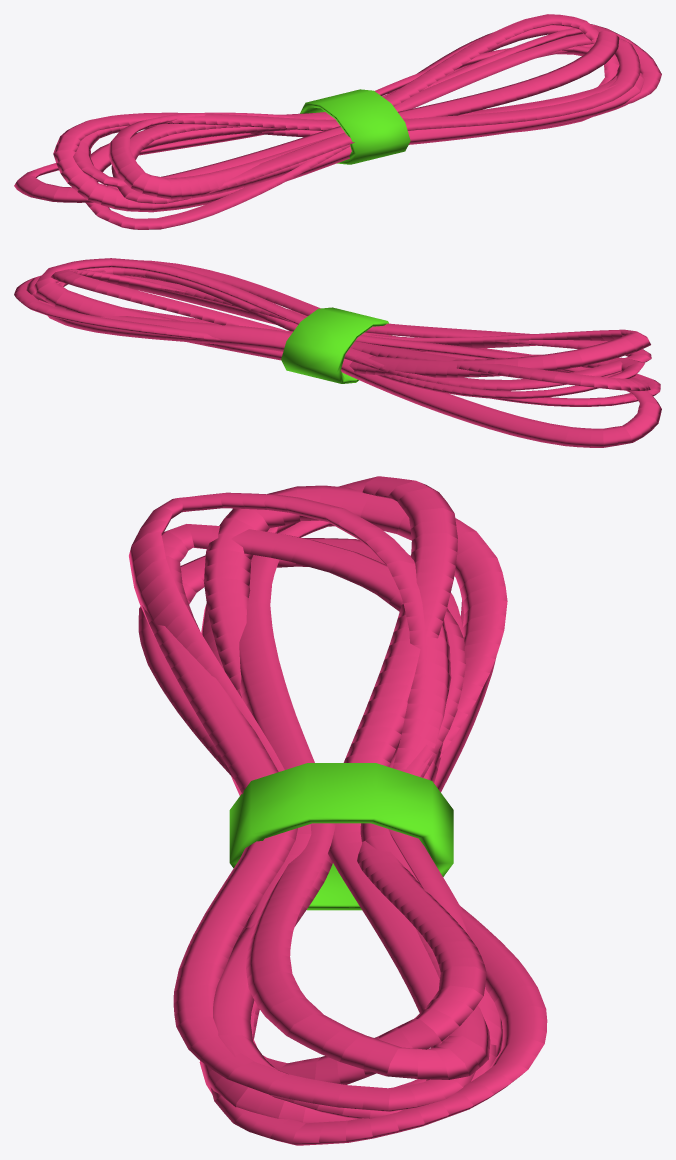
The model's file is Paracord.fbx.
The picture shows the model from 3 angles, top to bottom: view 1: azimuth 30°, elevation 25°; view 2: azimuth 150°, elevation 25°; view 3: azimuth 270°, elevation 25°; orthographic projection. The views are drawn at different scales.
Parts seen in each view (by area): view 1: Circle; view 2: Circle; view 3: Circle.
Boxes of the visible parts, bbox=[...] form: Circle: bbox=[14, 14, 661, 229]; Circle: bbox=[14, 258, 661, 447]; Circle: bbox=[129, 476, 547, 1145].
Size of the model in its own units: 78.69 by 269 by 30.43.
